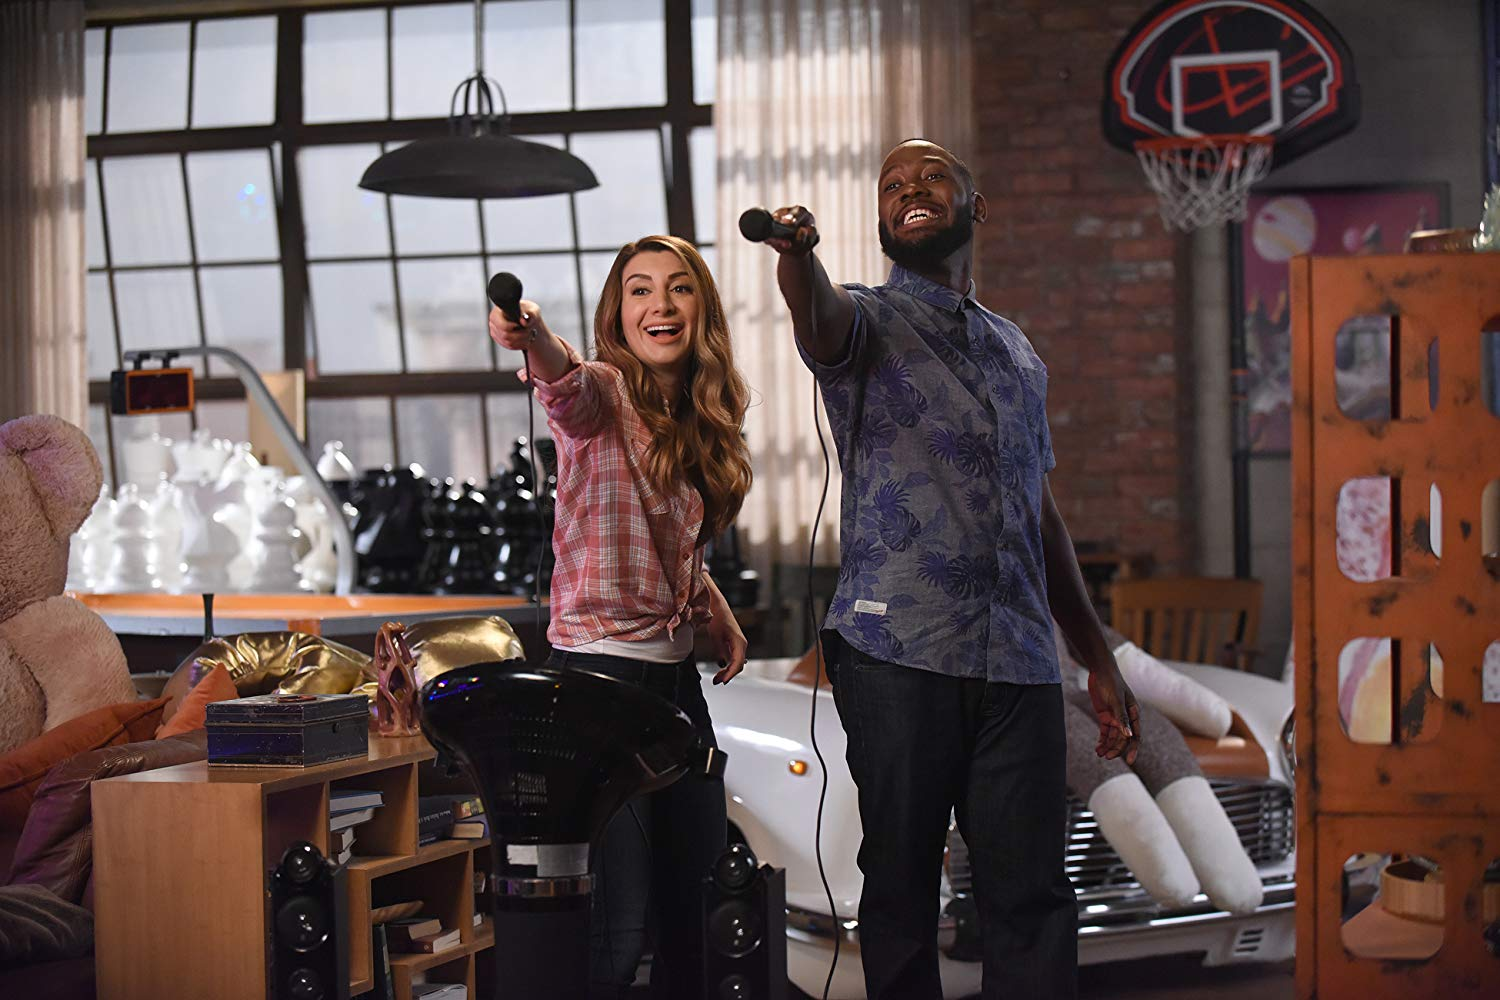person: (741, 129, 1141, 985), (517, 230, 772, 974)
